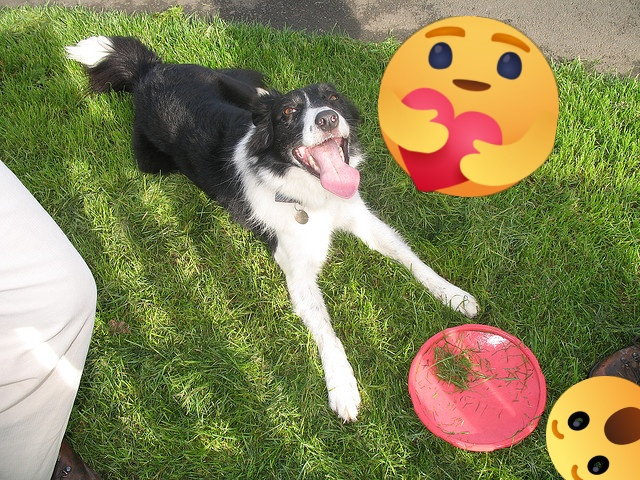care: (378, 16, 559, 197)
wow: (546, 376, 640, 480)
